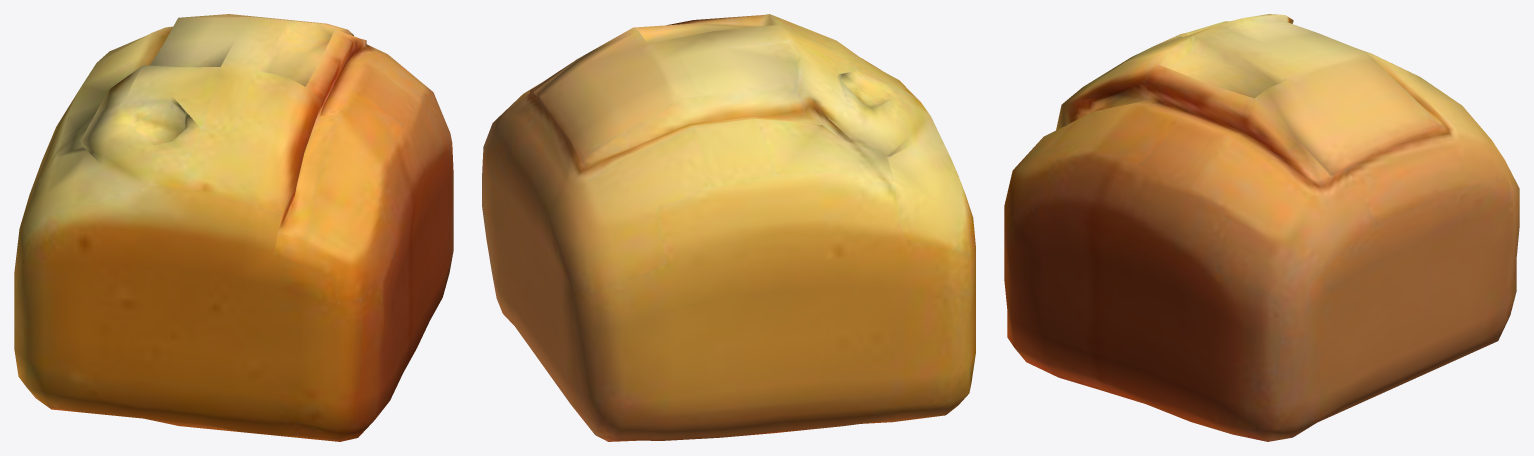
File: bread.glb
3 renders of one model, left to right at view 1: azimuth 30°, elevation 25°; view 2: azimuth 150°, elevation 25°; view 3: azimuth 270°, elevation 25°, orthographic. The views are drawn at different scales.
Visible parts, largest first — view 1: Bread; view 2: Bread; view 3: Bread.
Part boxes in pixels (bbox=[...]): Bread: bbox=[14, 14, 453, 441]; Bread: bbox=[482, 14, 975, 441]; Bread: bbox=[1004, 14, 1519, 441].
Size of the model in its own units: 1.81 by 1.24 by 1.8.
1 material, 1 textured.
